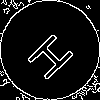H: (25, 25, 83, 83)
